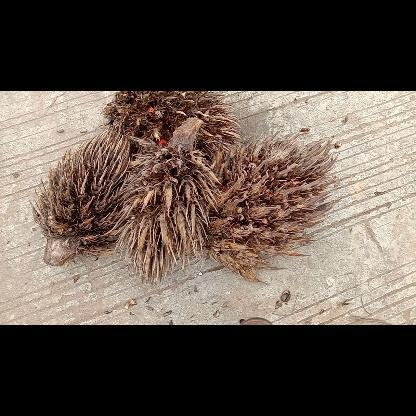Janjang kosong: (221, 131, 336, 282), (114, 116, 220, 278), (34, 127, 128, 263), (104, 92, 244, 158)
